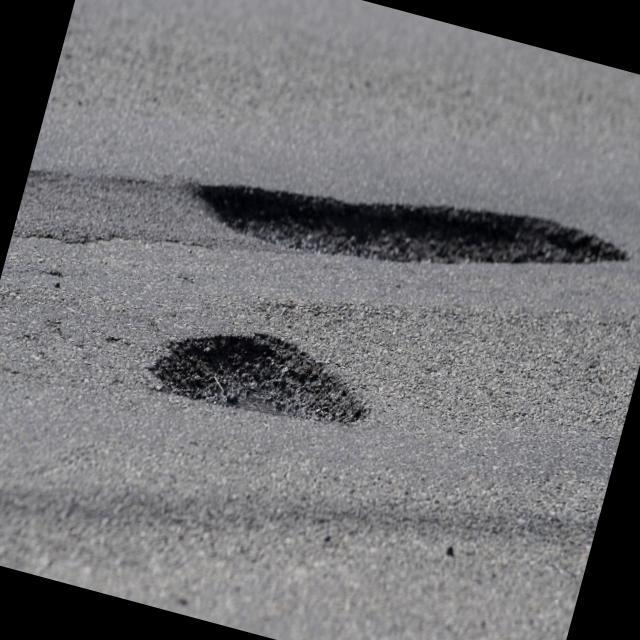Pothole: (186, 106, 640, 344), (115, 286, 388, 467)
